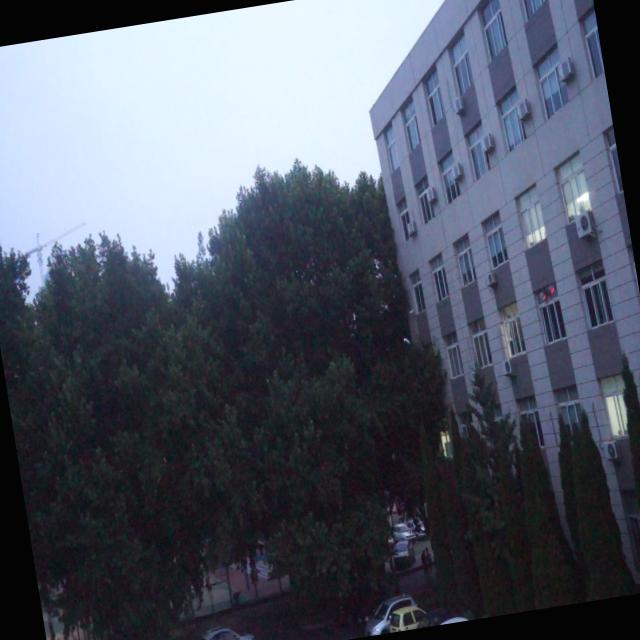drone: (534, 278, 560, 310)
